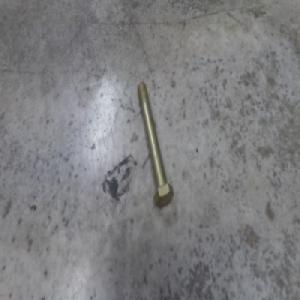Bolt: (137, 80, 174, 204)
